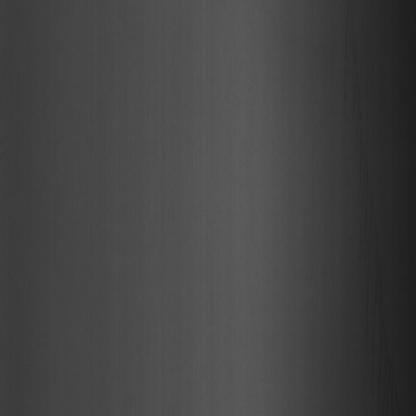water_spot: (338, 13, 400, 391)
